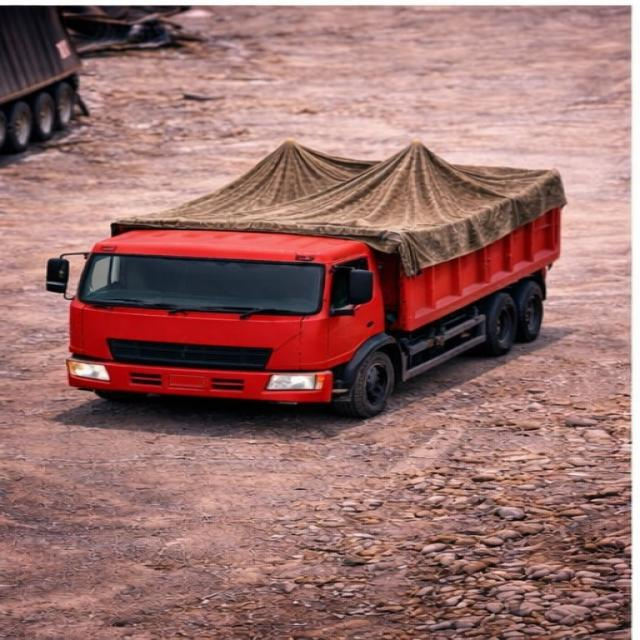Box: (109, 145, 572, 241)
Truck: (41, 123, 611, 399)
